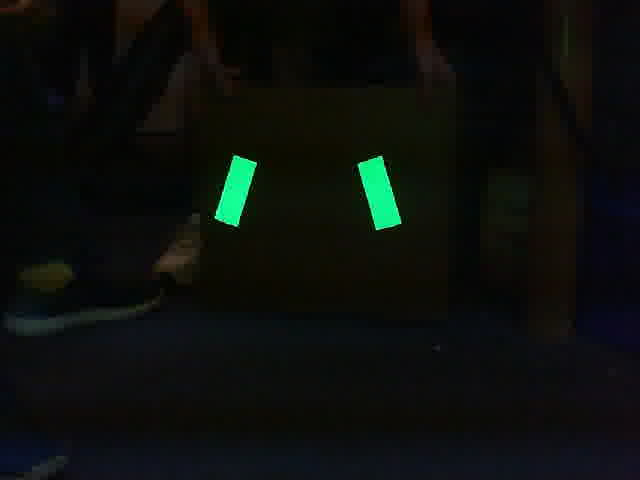target: (214, 154, 404, 232)
